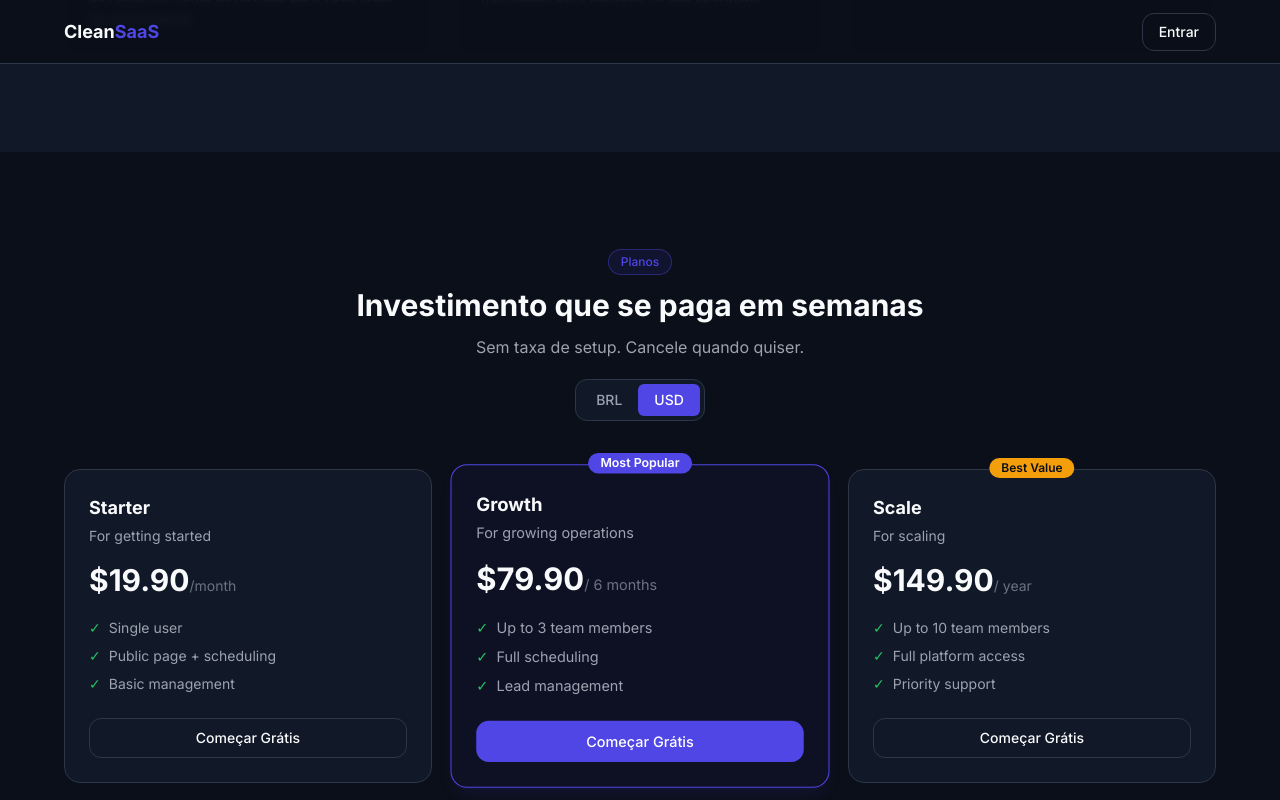
LandingPage — pricing section currency toggle › switches prices back to USD when USD toggle is clicked
(page scrolled)
Switch to BRL
Click the button with test id "currency-toggle-brl" at (609,400), box x1=580 y1=384 x2=638 y2=416
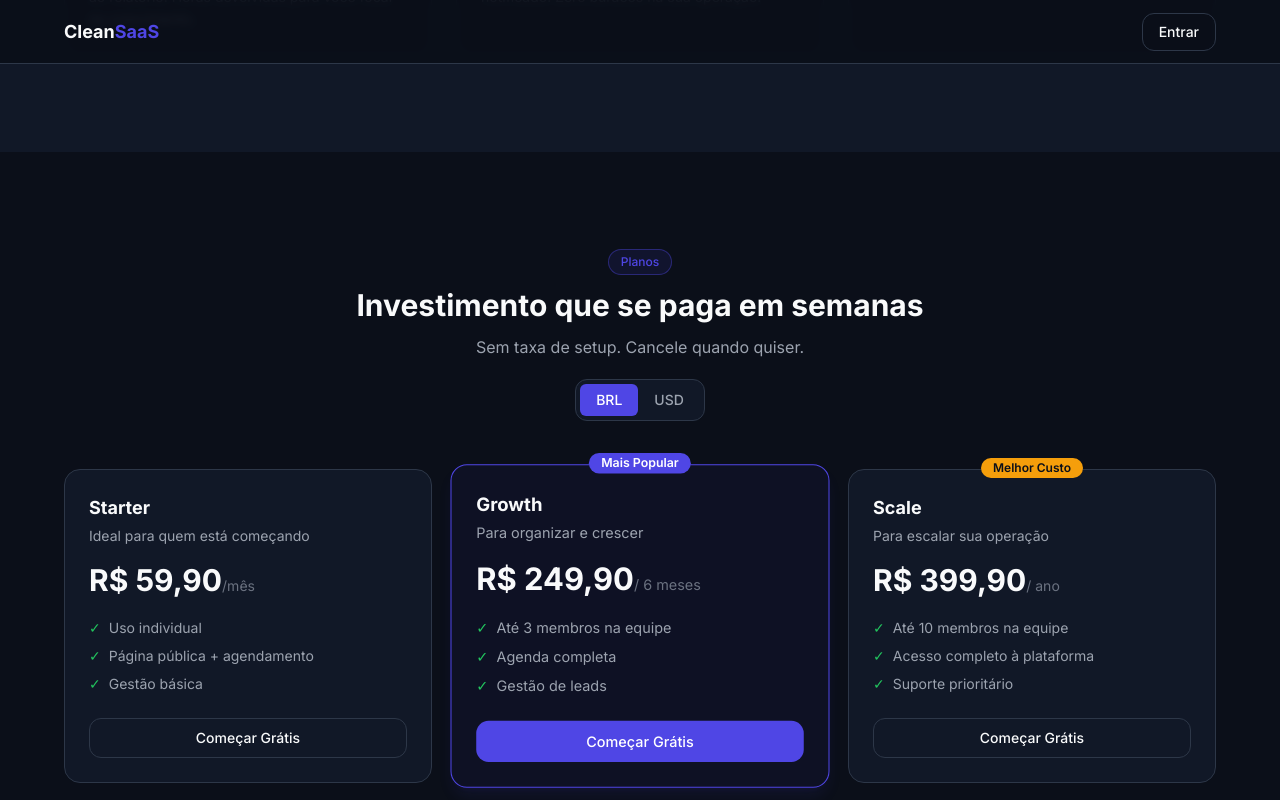
Result: the text "R$ 59,90" is shown at x1=89 y1=562 x2=222 y2=598
Switch back to USD
Click the button with test id "currency-toggle-usd" at (669,400), box x1=638 y1=384 x2=700 y2=416
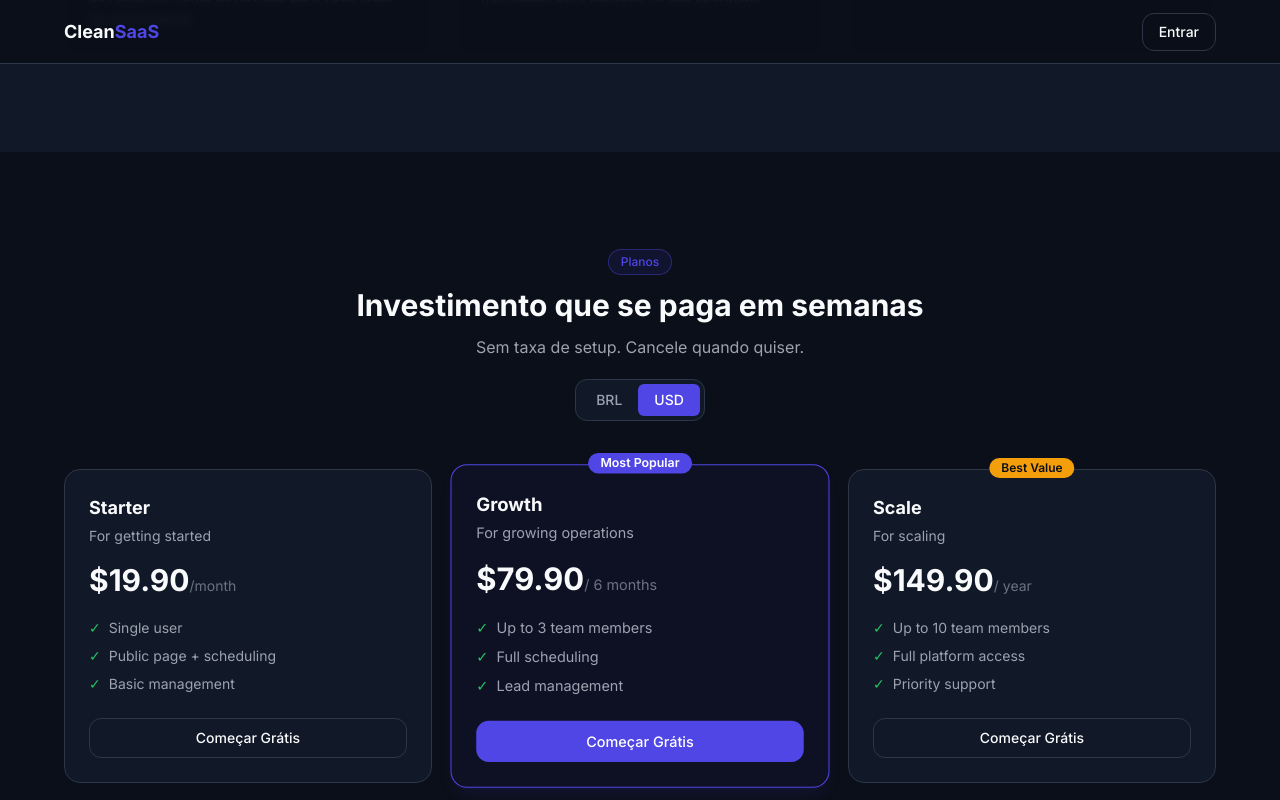
Result: the text "$19.90" is shown at x1=89 y1=562 x2=190 y2=598
